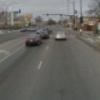cars: (25, 34, 42, 47)
